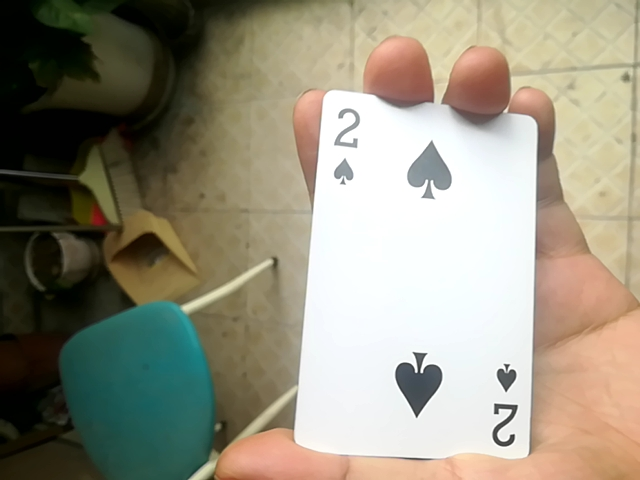ht 2: (305, 91, 528, 464)
